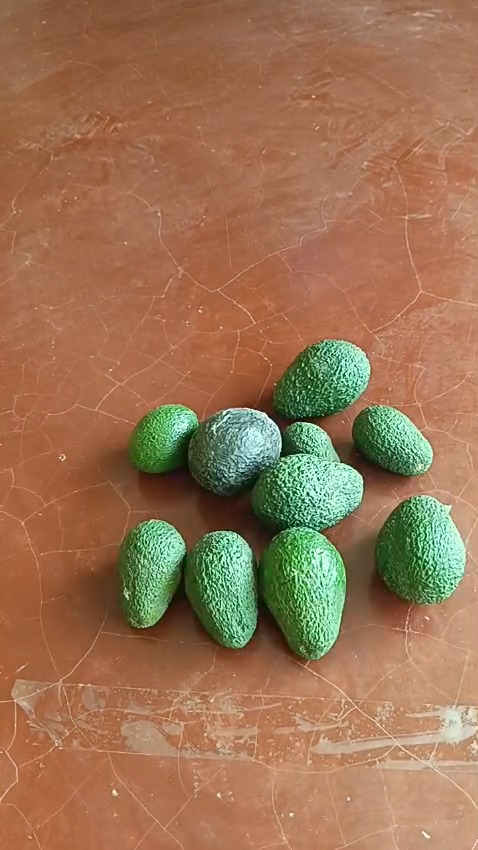Primera: (259, 528, 349, 660), (374, 495, 467, 604), (184, 530, 261, 649), (251, 454, 365, 532), (189, 409, 282, 499), (272, 343, 371, 422)
Segunda: (118, 519, 190, 631), (351, 407, 433, 479), (128, 405, 200, 475)
Tercera: (280, 424, 339, 467)
